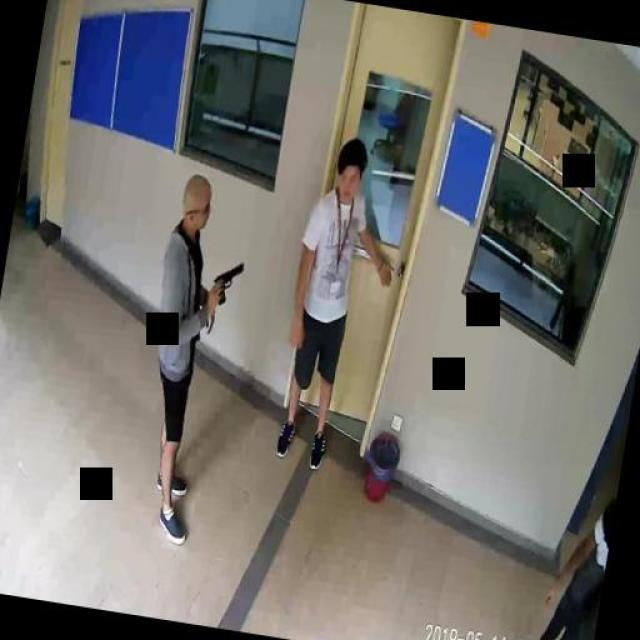gun: (208, 256, 244, 306)
